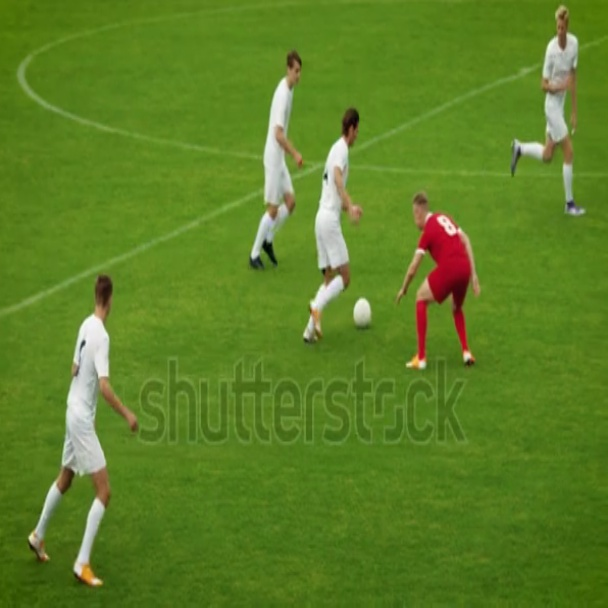ball: (356, 295, 372, 330)
